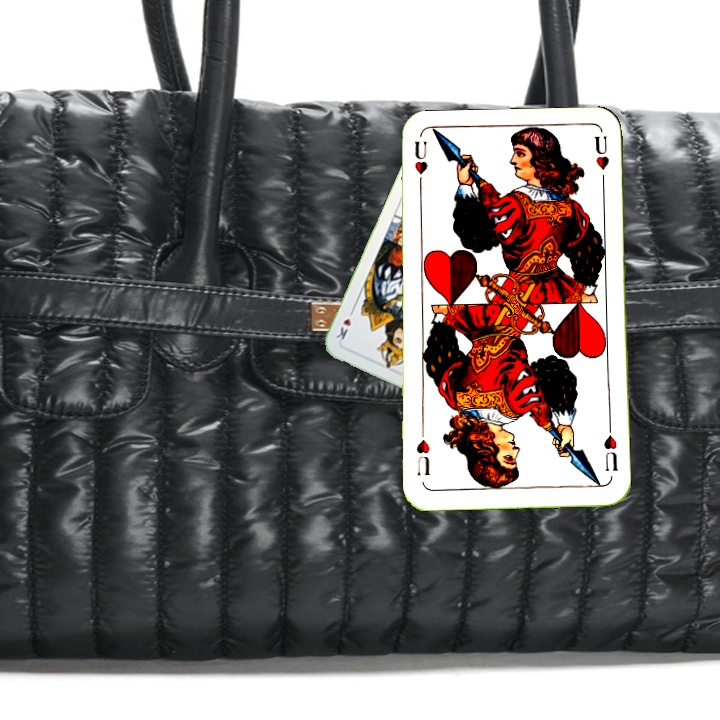HU: (410, 136, 429, 195), (600, 431, 620, 474)
